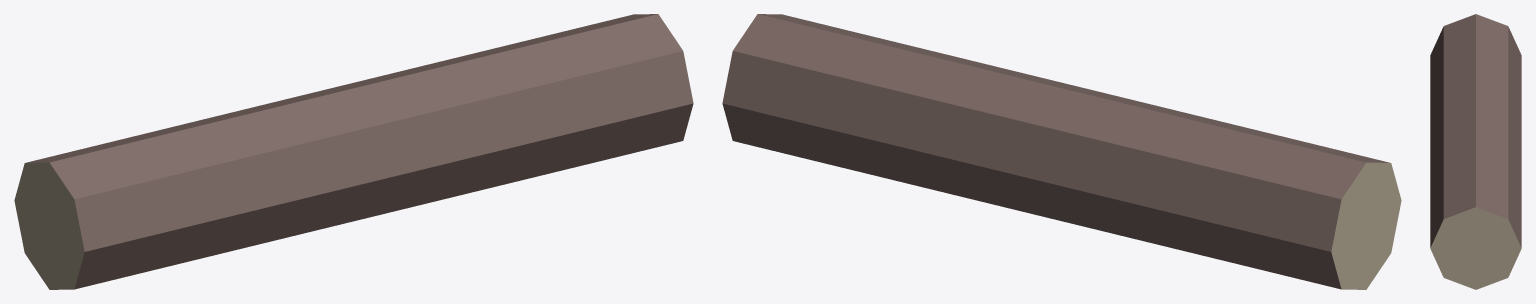
The model's file is Trastock.fbx.
The picture shows the model from 3 angles, left to right: view 1: azimuth 30°, elevation 25°; view 2: azimuth 150°, elevation 25°; view 3: azimuth 270°, elevation 25°; orthographic projection. The views are drawn at different scales.
Parts seen in each view (by area): view 1: pCylinder1; view 2: pCylinder1; view 3: pCylinder1.
Boxes of the visible parts, <box> form: pCylinder1: <box>14,14,693,289</box>; pCylinder1: <box>722,14,1401,289</box>; pCylinder1: <box>1430,14,1521,289</box>.
Bounding box in the file's own units: 0.05 × 0.01 × 0.01.
